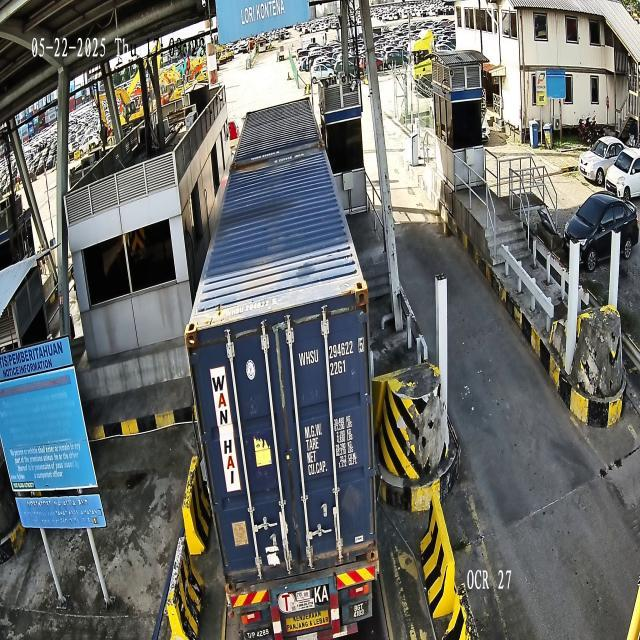ISO: (330, 360, 346, 376)
container_number: (298, 336, 366, 368)
